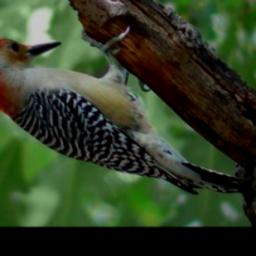Woodpecker: (0, 24, 251, 200)
